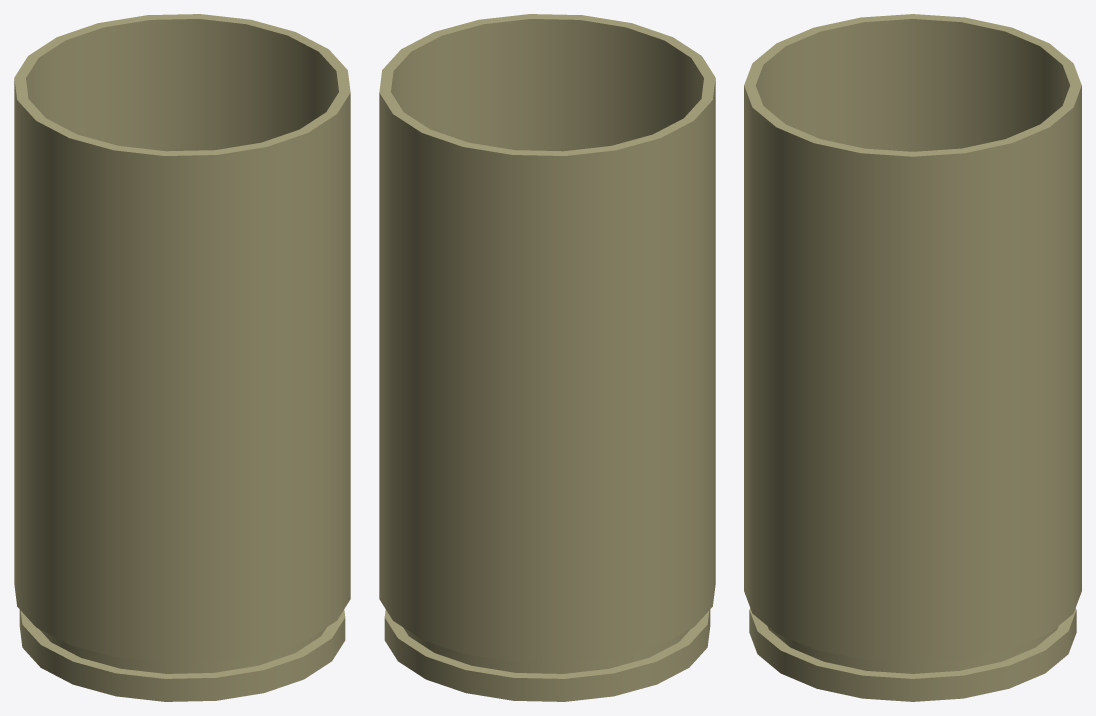
The model's file is Pistol_Bullet_Case.fbx.
3 renders of one model, left to right at view 1: azimuth 30°, elevation 25°; view 2: azimuth 150°, elevation 25°; view 3: azimuth 270°, elevation 25°, orthographic.
Parts seen in each view (by area): view 1: pCylinder3; view 2: pCylinder3; view 3: pCylinder3.
Part boxes in pixels (x1=…): pCylinder3: x1=14, y1=14, x2=350, y2=701; pCylinder3: x1=379, y1=14, x2=715, y2=701; pCylinder3: x1=744, y1=14, x2=1081, y2=701.
Bounding box in the file's own units: 2.21 × 4.02 × 2.21.
